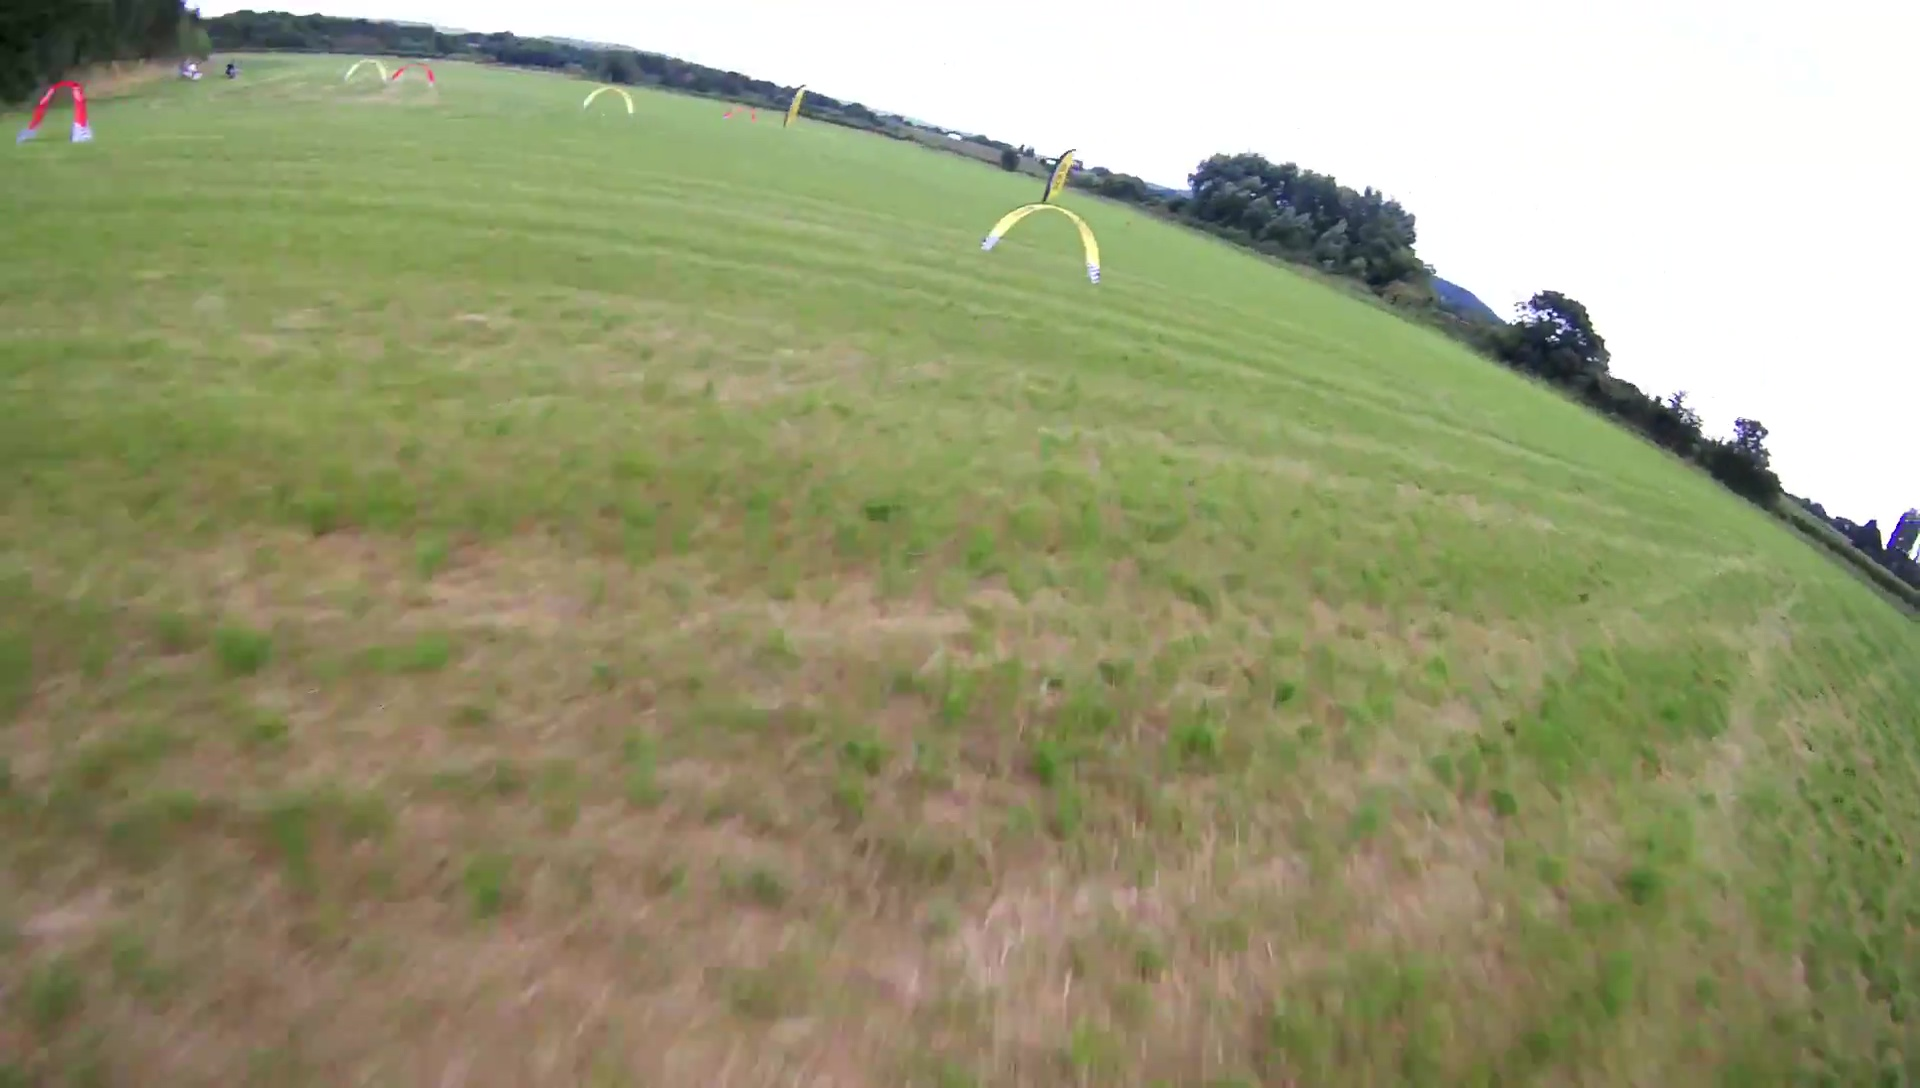gate: (978, 202, 1105, 284), (18, 78, 94, 146), (580, 84, 637, 116), (386, 59, 440, 88), (342, 57, 390, 84)
